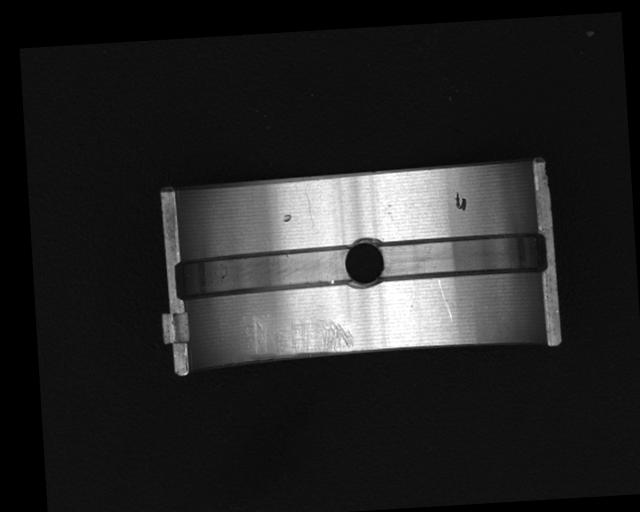blot: (453, 191, 467, 213)
bruise: (281, 213, 292, 223)
gap: (173, 244, 355, 301), (376, 230, 551, 284)
hole: (343, 236, 387, 292)
nick: (438, 278, 454, 324), (305, 192, 314, 228)
scratch: (242, 310, 356, 362)
